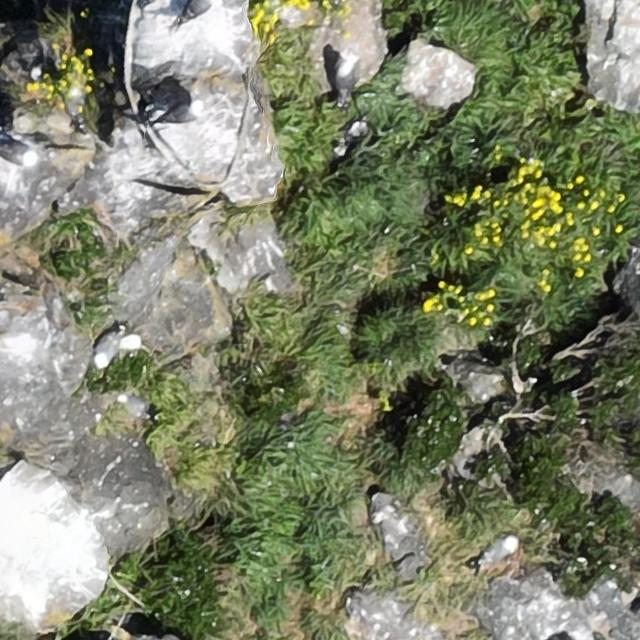umineko: (94, 329, 122, 370), (159, 99, 204, 124), (65, 81, 87, 130), (334, 52, 354, 100), (481, 538, 517, 562), (2, 142, 36, 166), (119, 396, 149, 418), (185, 0, 212, 16)
